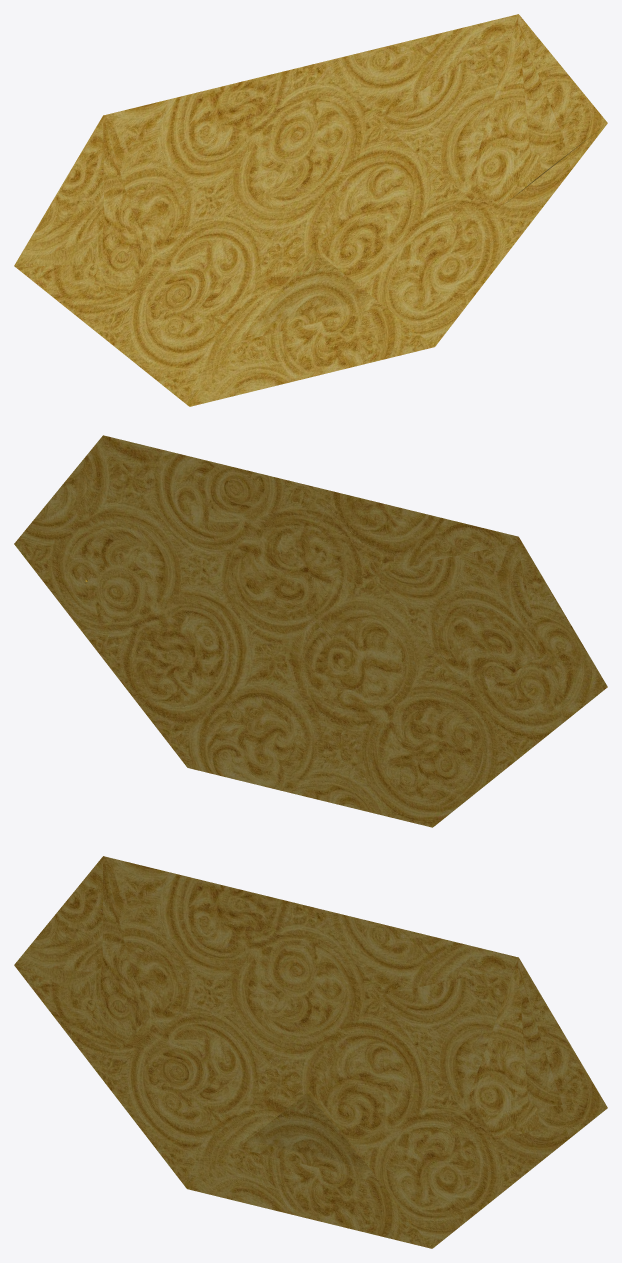
3 renders of one model, top to bottom at view 1: azimuth 30°, elevation 25°; view 2: azimuth 150°, elevation 25°; view 3: azimuth 330°, elevation 25°, orthographic.
Visible parts, largest first — view 1: Origami_Model_10.001; view 2: Origami_Model_10.001; view 3: Origami_Model_10.001.
Part boxes in pixels (bbox=[...]): Origami_Model_10.001: bbox=[14, 14, 607, 406]; Origami_Model_10.001: bbox=[14, 435, 607, 827]; Origami_Model_10.001: bbox=[14, 856, 607, 1248].
Bounding box in the file's own units: 0.2001 × 0.1005 × 0.00277.
Materials: 1 (1 with a texture image).
